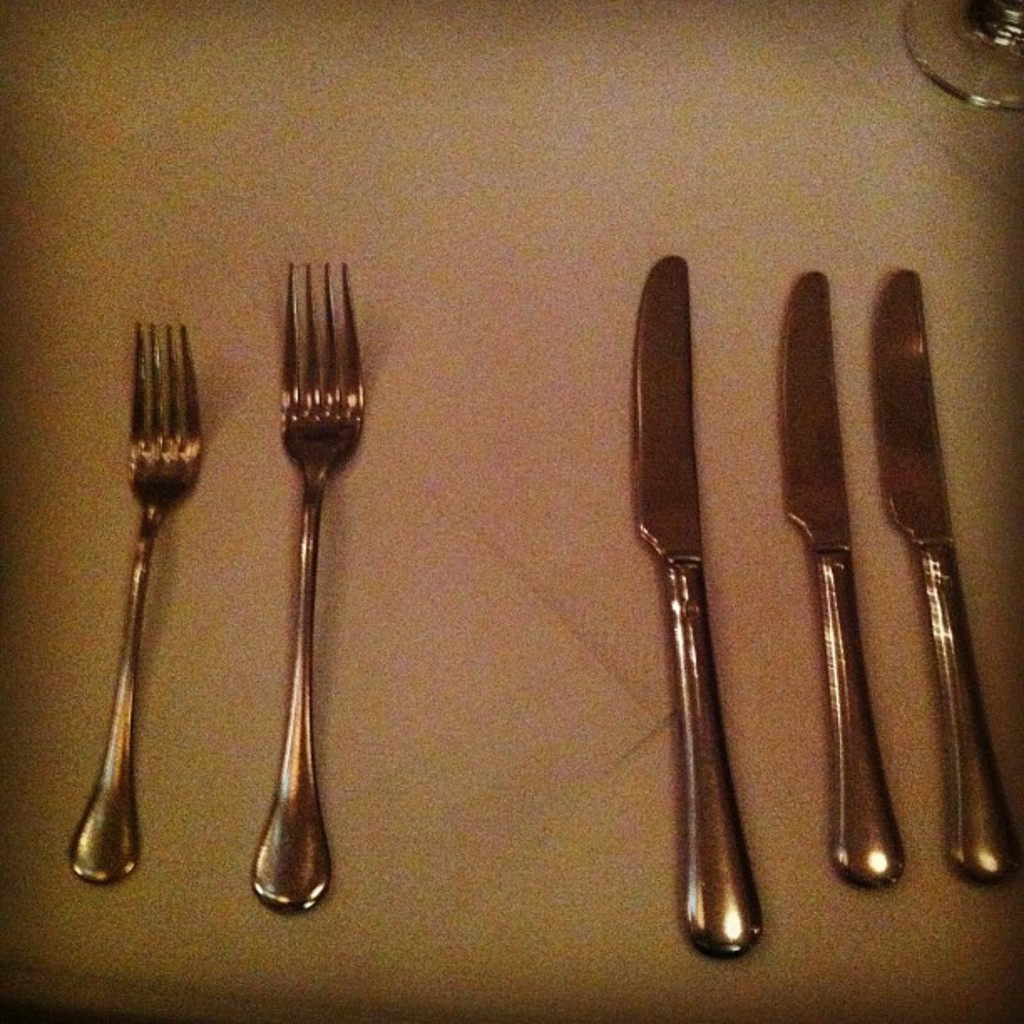fork: (250, 260, 368, 915), (68, 319, 199, 885)
